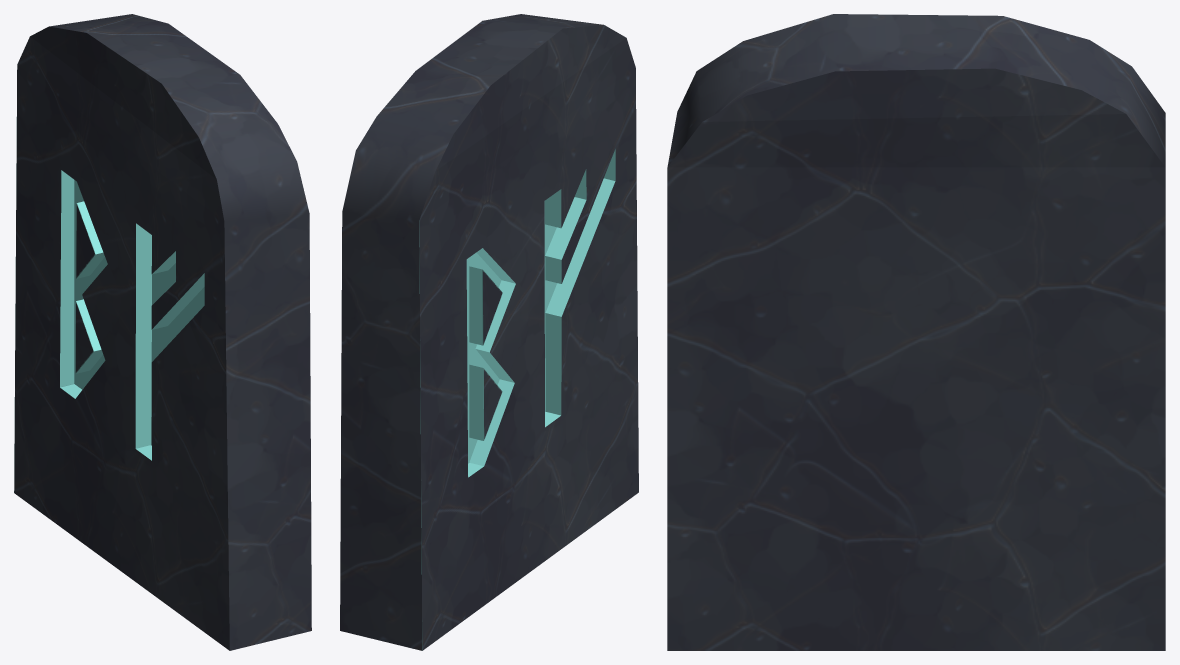
The model's file is Door 4.fbx.
3 renders of one model, left to right at view 1: azimuth 30°, elevation 25°; view 2: azimuth 150°, elevation 25°; view 3: azimuth 270°, elevation 25°, orthographic. The views are drawn at different scales.
Visible parts, largest first — view 1: Door_4_5; view 2: Door_4_5; view 3: Door_4_5.
Part boxes in pixels (x1=…): Door_4_5: x1=14, y1=14, x2=311, y2=650; Door_4_5: x1=340, y1=14, x2=638, y2=650; Door_4_5: x1=667, y1=14, x2=1165, y2=650.
Bounding box in the file's own units: 0.7182 × 4.18 × 3.18.
